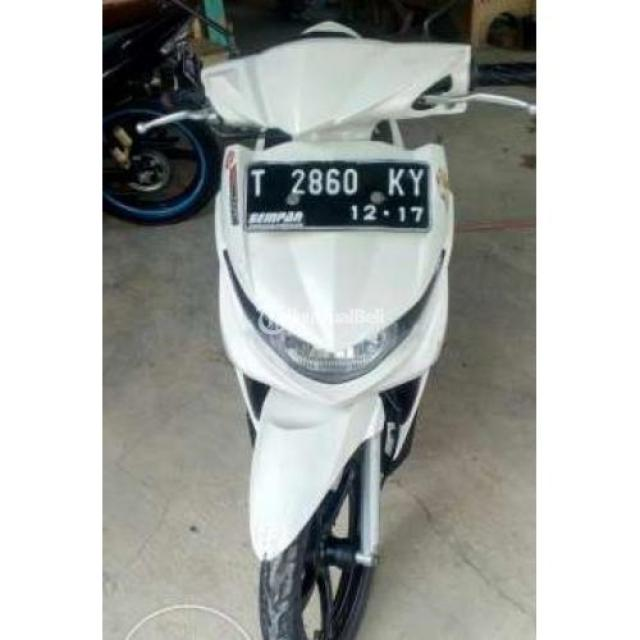plate: (244, 165, 429, 231)
